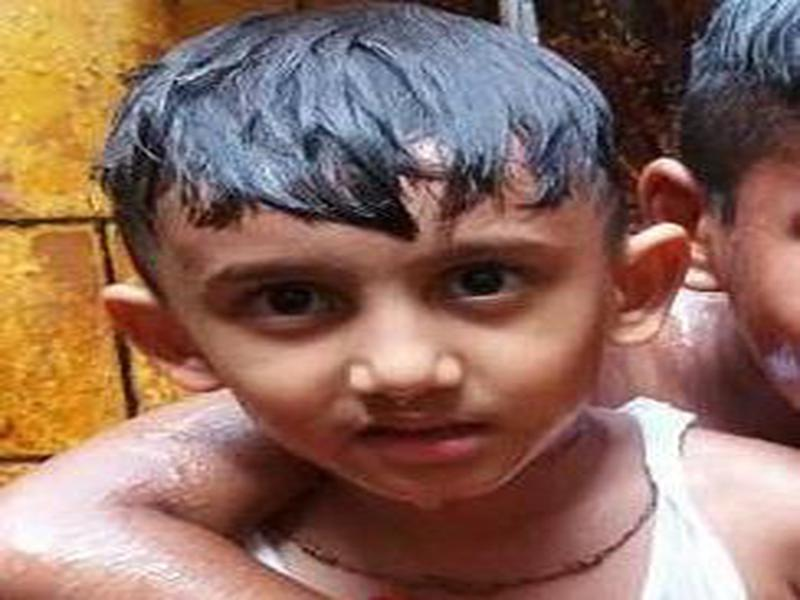without_mask: (133, 172, 649, 508)
